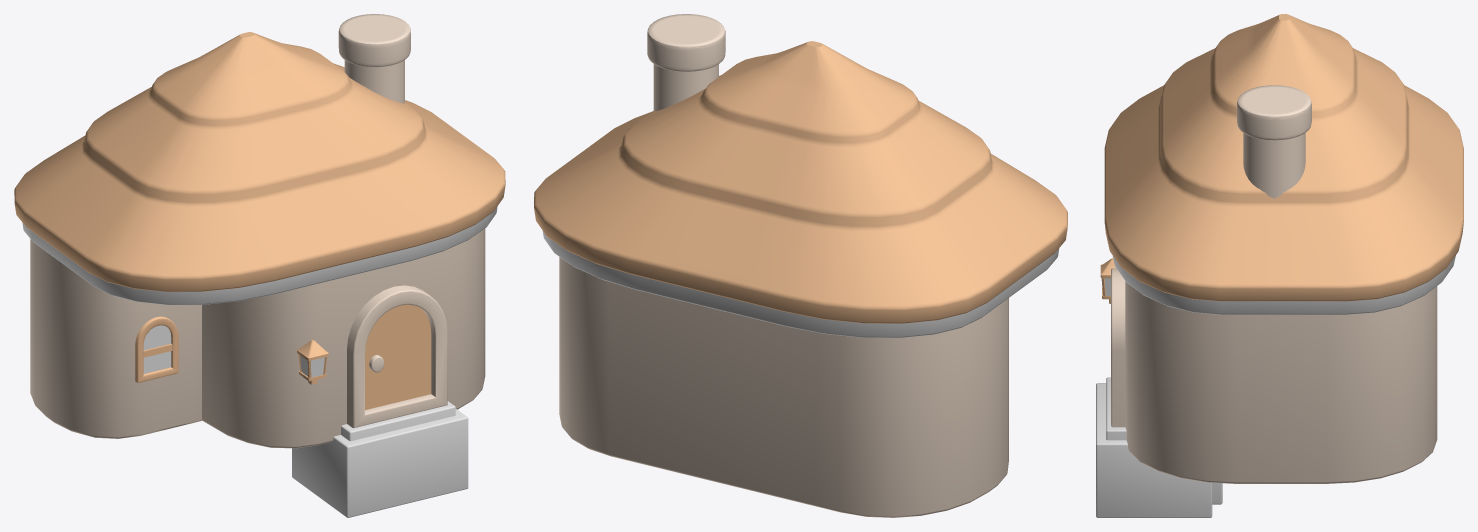
The model's file is House07.glb.
3 views of the same model, side by side, from view 1: azimuth 30°, elevation 25°; view 2: azimuth 150°, elevation 25°; view 3: azimuth 270°, elevation 25° (orthographic). The views are drawn at different scales.
Visible parts, largest first — view 1: House, Cylinder.004, Door, Pipe, Window, Lamp; view 2: House, Pipe; view 3: House, Cylinder.004, Pipe, Door, Lamp.
Part boxes in pixels (x1=…): House: x1=14, y1=32, x2=505, y2=448; Cylinder.004: x1=292, y1=401, x2=468, y2=517; Door: x1=347, y1=285, x2=447, y2=428; Pipe: x1=338, y1=14, x2=410, y2=103; Window: x1=135, y1=316, x2=178, y2=382; Lamp: x1=297, y1=340, x2=328, y2=384; House: x1=534, y1=41, x2=1067, y2=517; Pipe: x1=647, y1=14, x2=725, y2=111; House: x1=1104, y1=14, x2=1463, y2=483; Cylinder.004: x1=1096, y1=377, x2=1222, y2=517; Pipe: x1=1237, y1=85, x2=1311, y2=198; Door: x1=1111, y1=268, x2=1125, y2=427; Lamp: x1=1100, y1=258, x2=1115, y2=303.
Size of the model in its own units: 1.19 by 1.17 by 0.8951.
